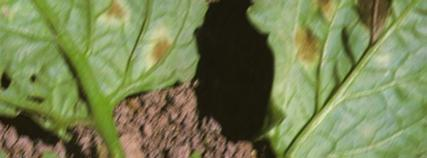Tomato mold leaf: (245, 0, 427, 158), (0, 0, 208, 123)
